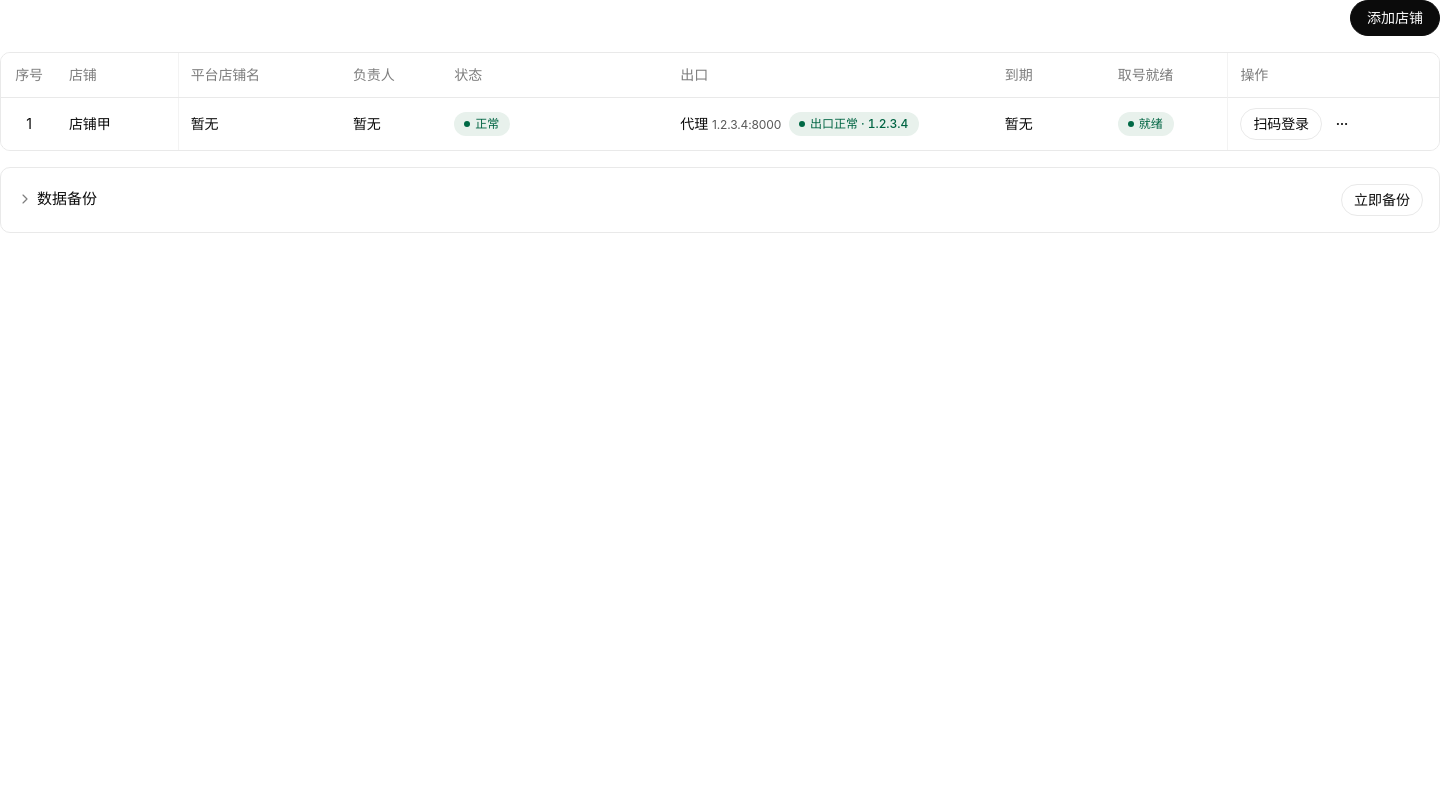
Scenario: 设置出口 › 已登录的店铺：保存出口先确认（危险按钮），确认后才提交，两个弹窗都关闭
Click the button named "更多操作": (1342, 124) [1326, 108, 1358, 140]
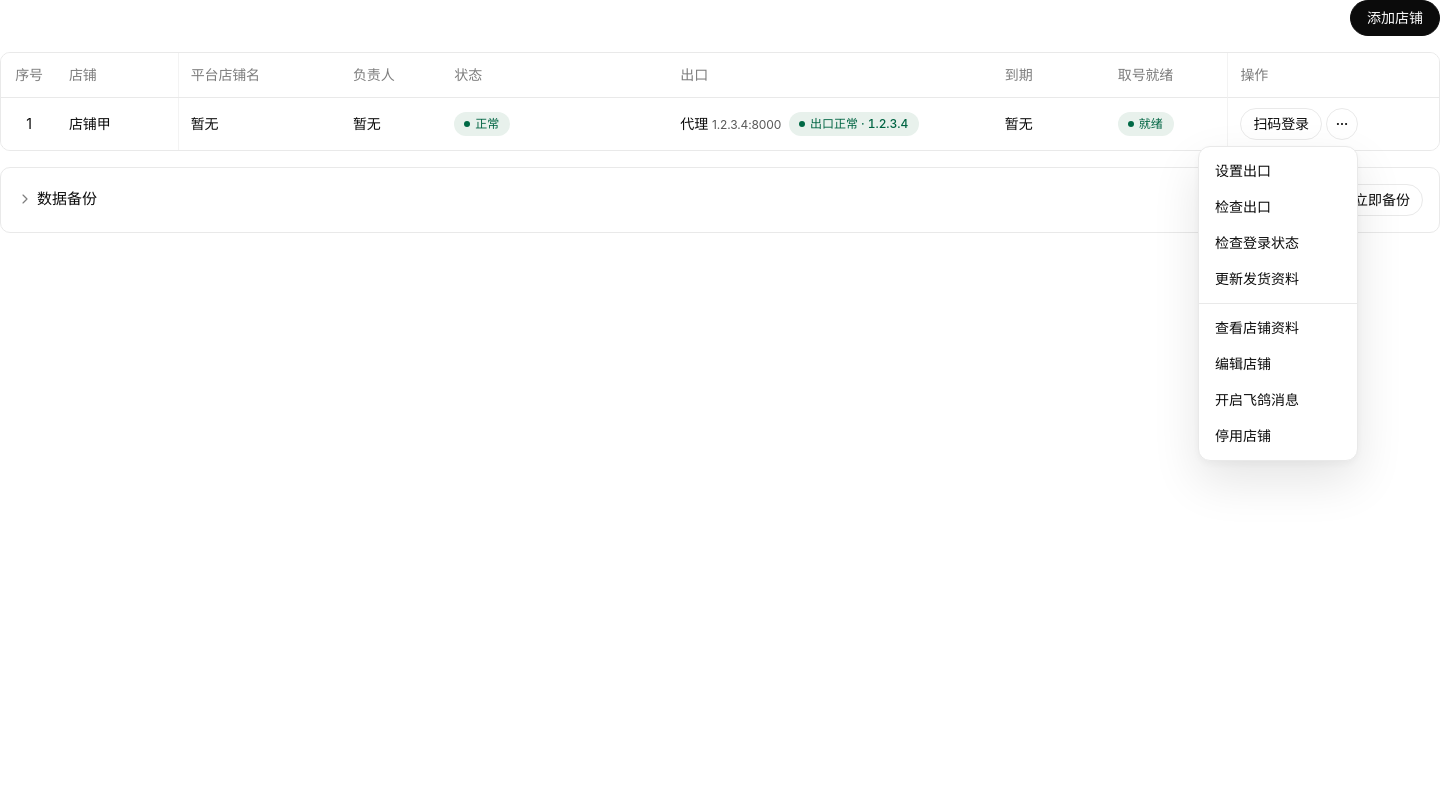
Click the menu item "设置出口": (1243, 171) [1215, 162, 1271, 179]
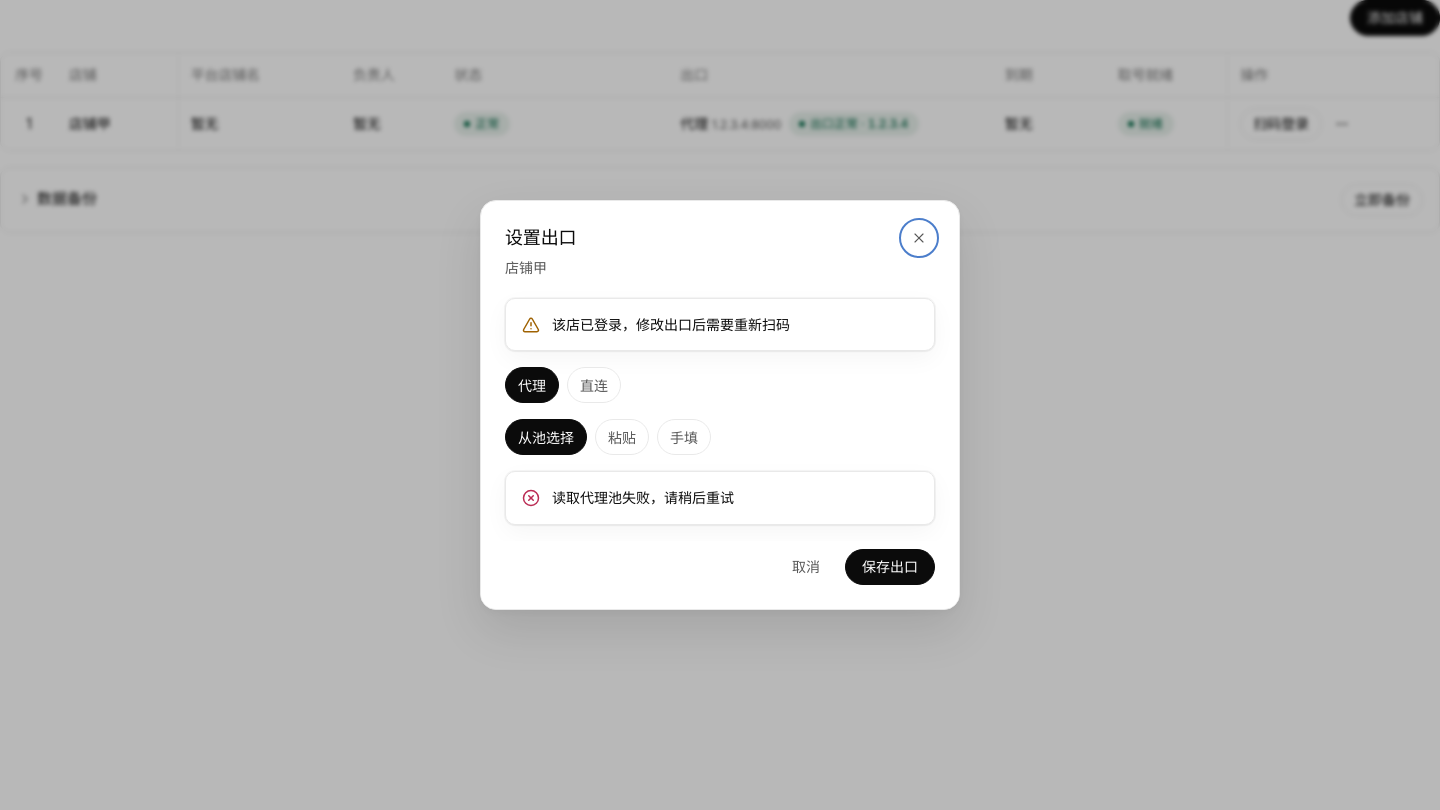
Result: the text "该店已登录，修改出口后需要重新扫码" is shown at [552, 316, 790, 333]
Click the button "直连": (594, 385) [567, 367, 621, 403]
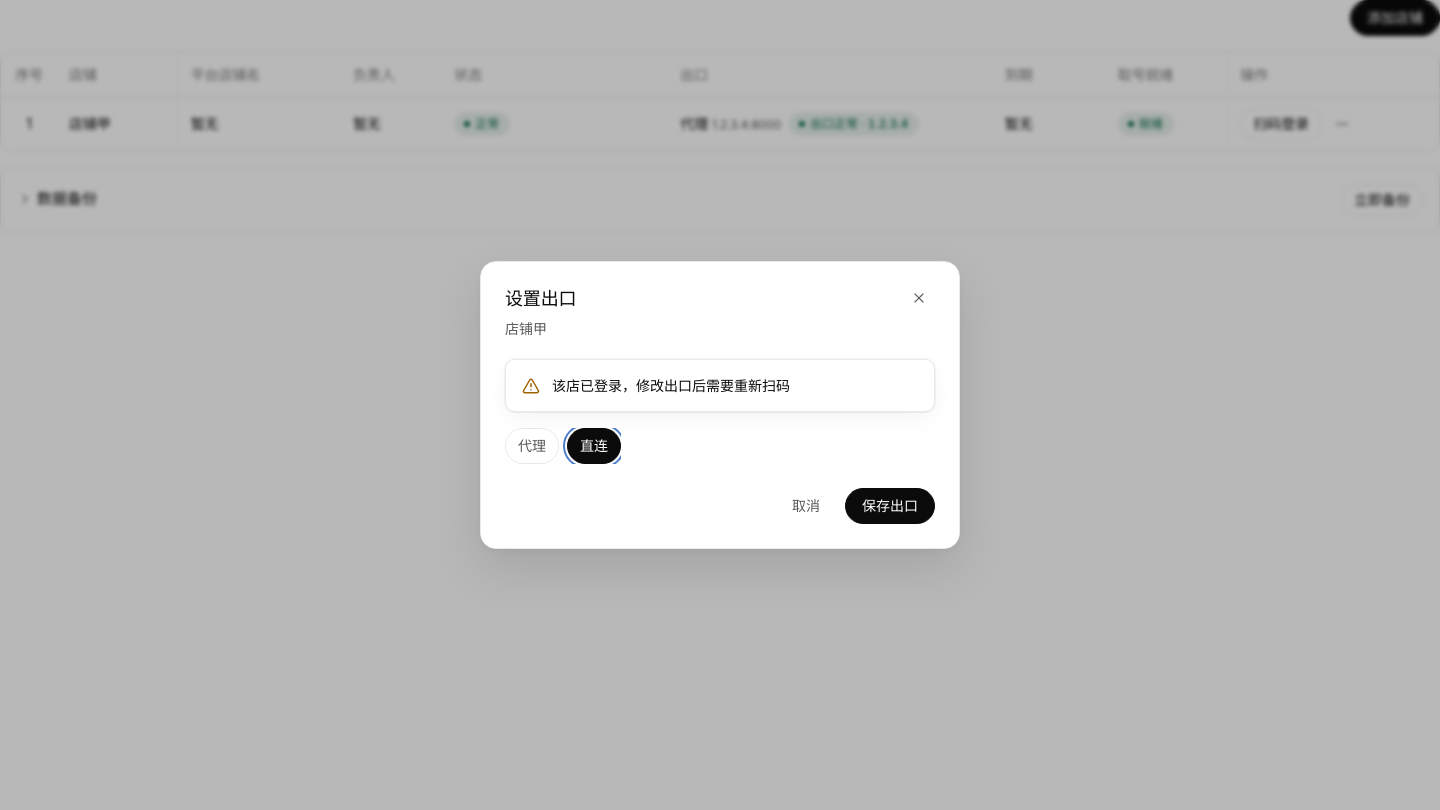
Click the button "保存出口": (890, 506) [845, 488, 935, 524]
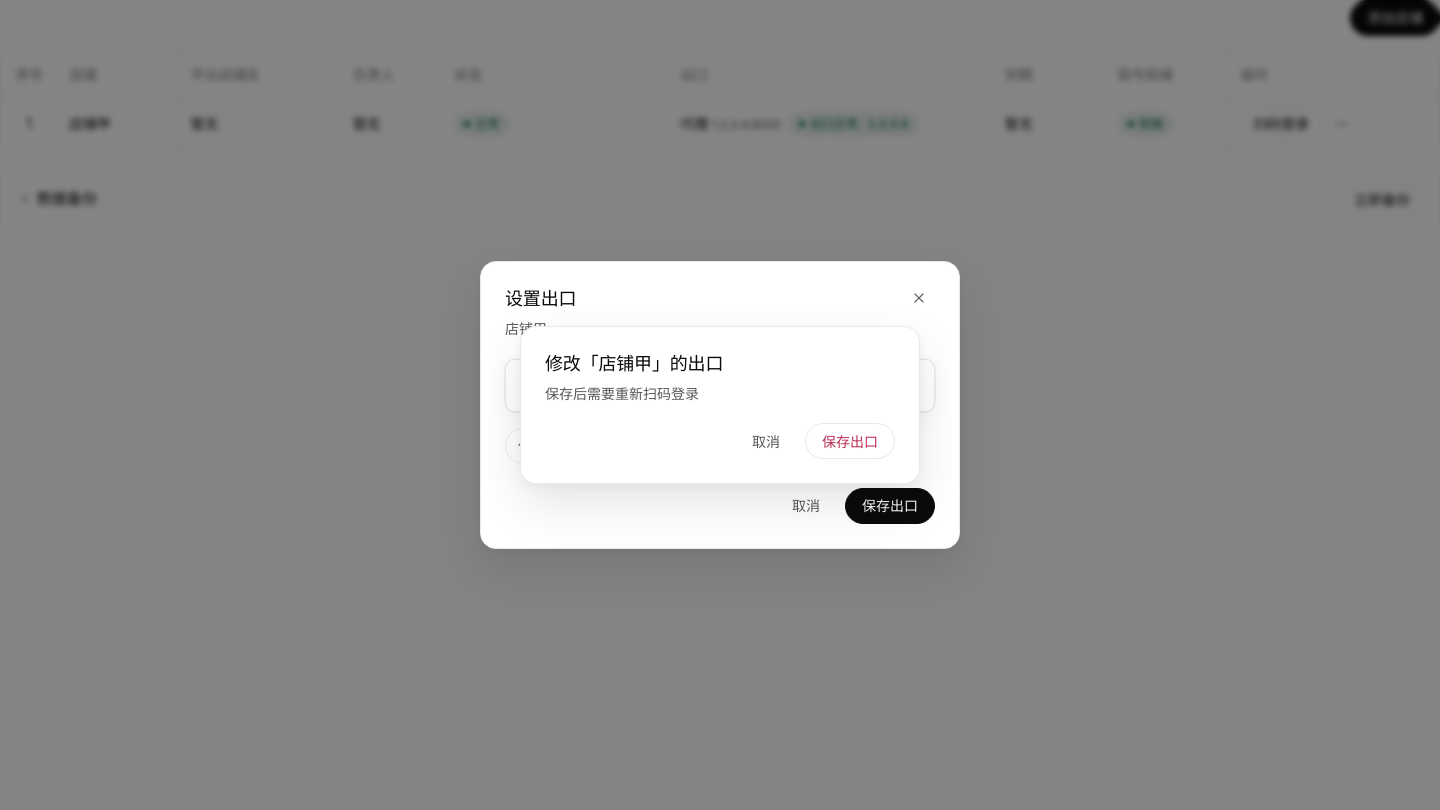
Click the button "保存出口": (850, 441) [805, 423, 895, 459]
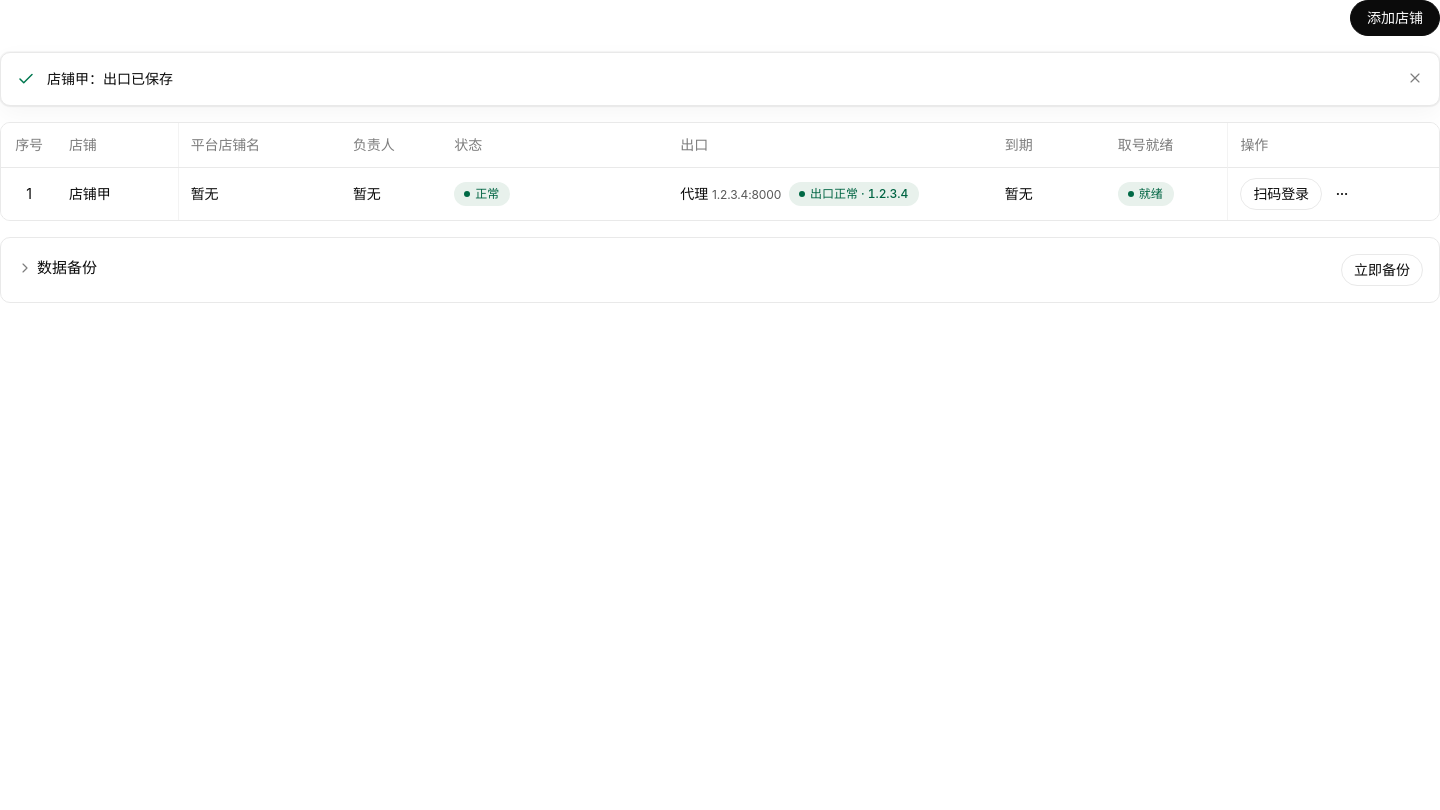
Result: the dialog is gone
